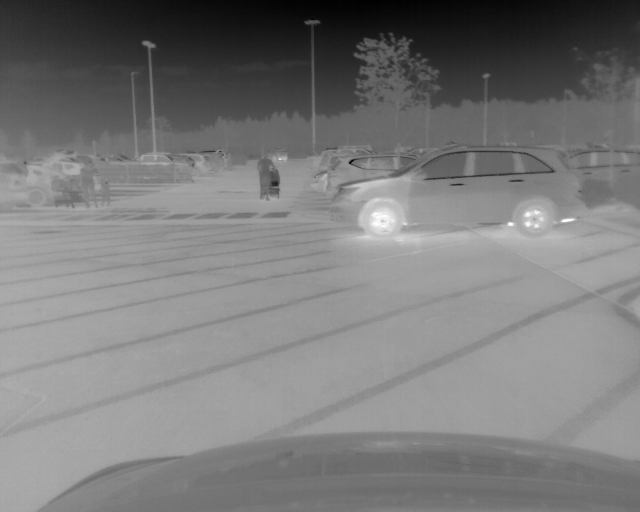car: (327, 145, 587, 238), (329, 153, 427, 197), (565, 149, 640, 196), (29, 165, 68, 209), (138, 151, 192, 179), (1, 162, 27, 213), (190, 153, 211, 178), (265, 148, 289, 164)
people: (256, 151, 279, 203), (81, 160, 99, 208), (98, 161, 113, 205)
